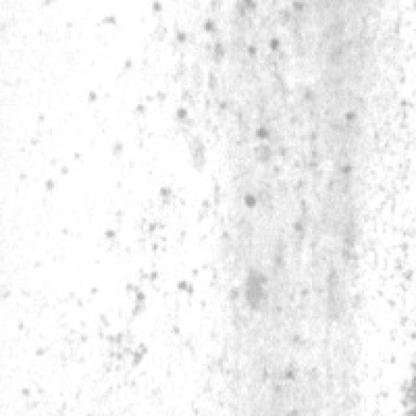pitted_surface: (63, 0, 341, 312)
